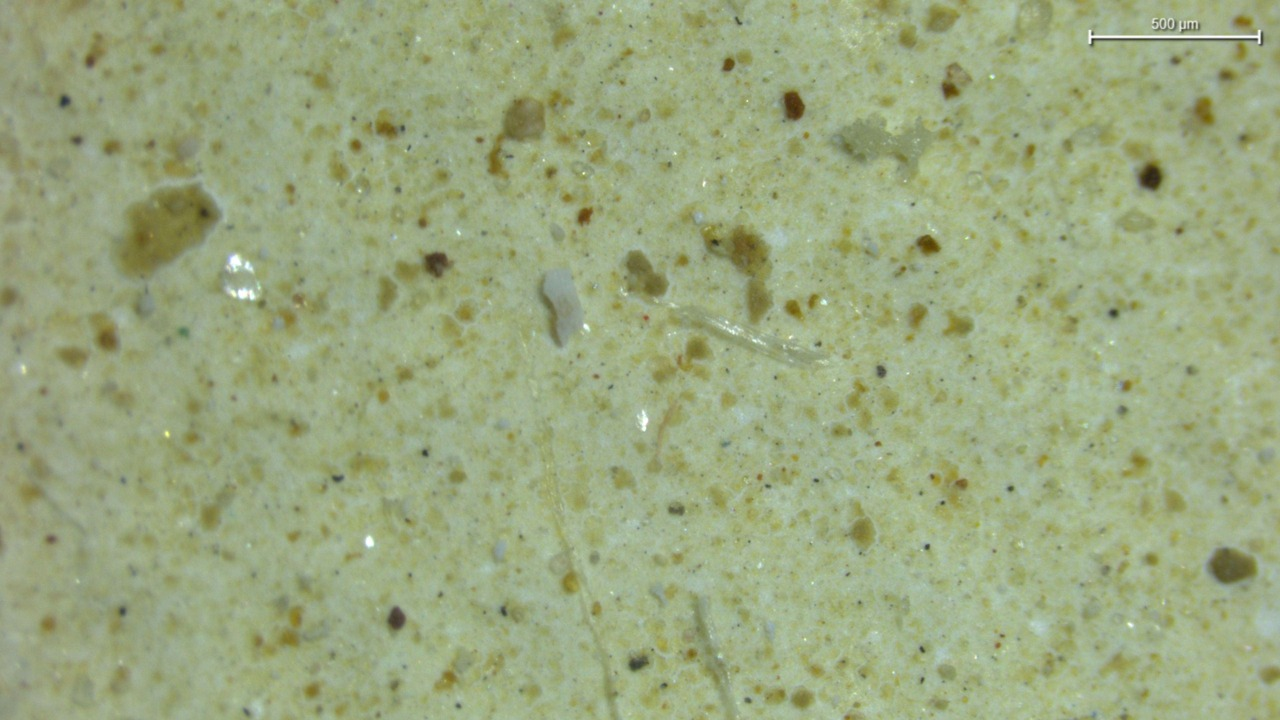microplastic_fragment: (832, 116, 936, 179), (542, 269, 587, 347), (220, 254, 262, 301)
